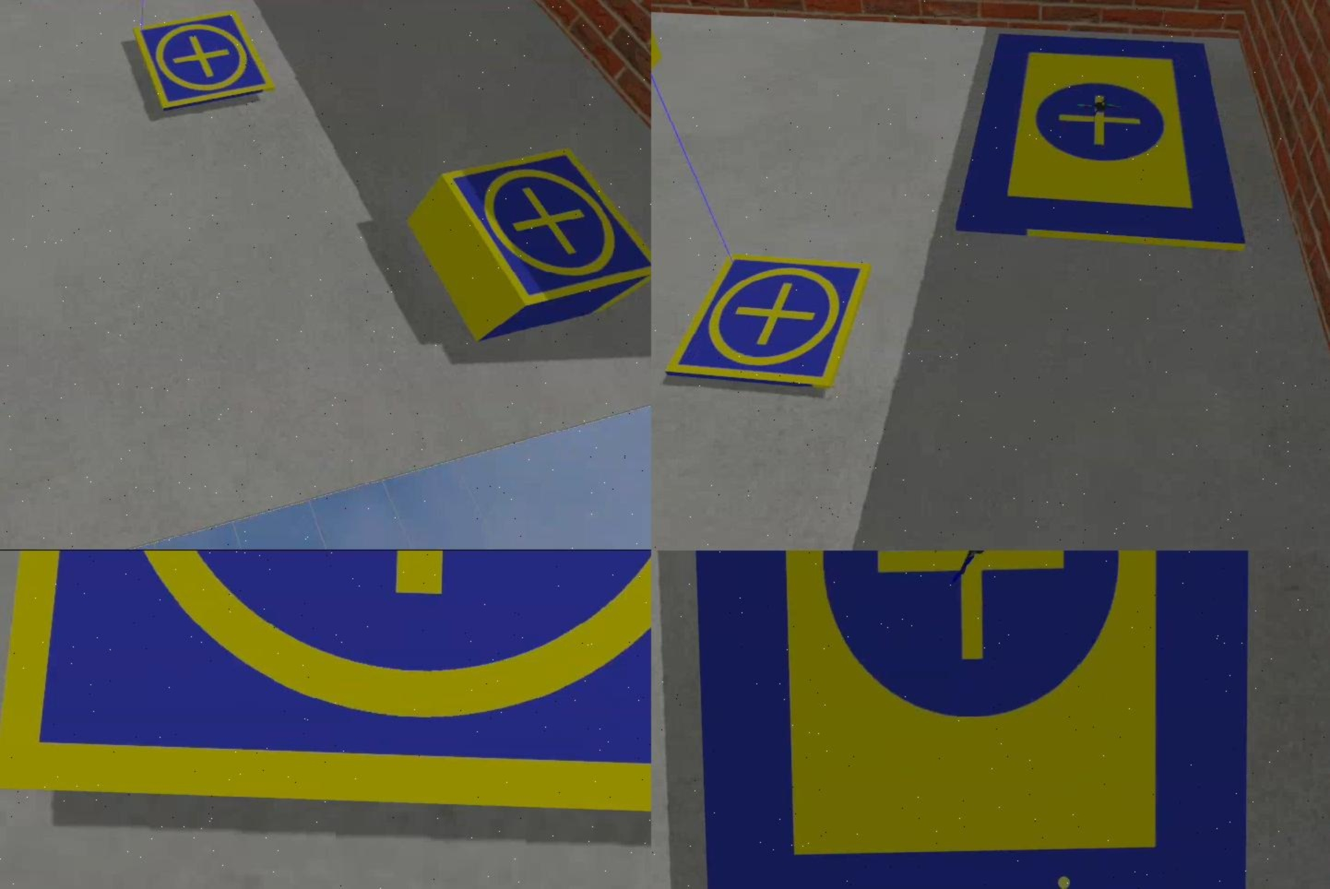large_base: (690, 551, 1247, 889), (959, 30, 1250, 251)
small_base: (1, 551, 652, 820), (443, 150, 652, 306), (665, 258, 877, 395), (136, 15, 275, 115)
